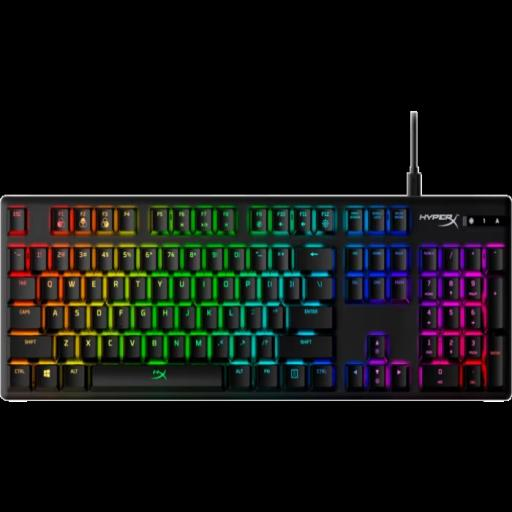KEYBOARD-2: (0, 196, 511, 399)
